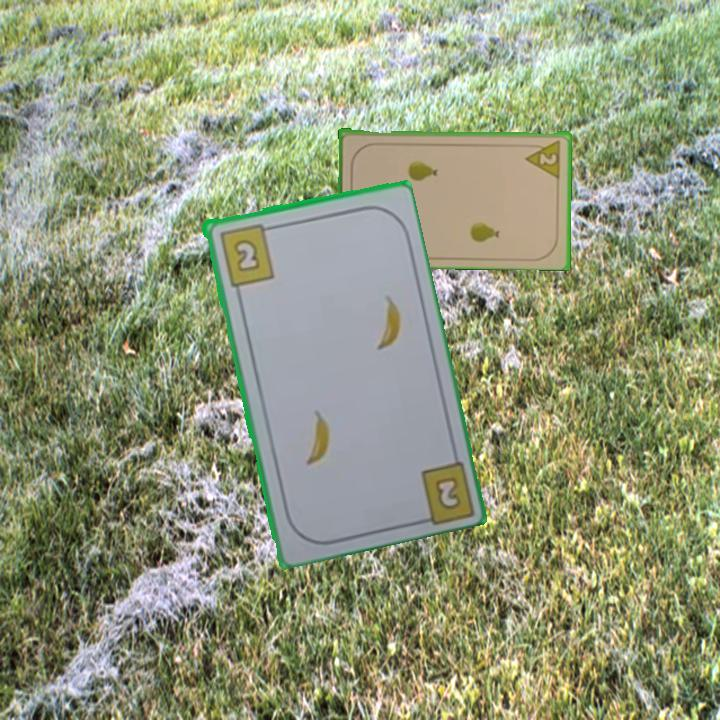2b: (215, 219, 277, 289), (434, 476, 461, 509)
2p: (522, 136, 564, 179)
